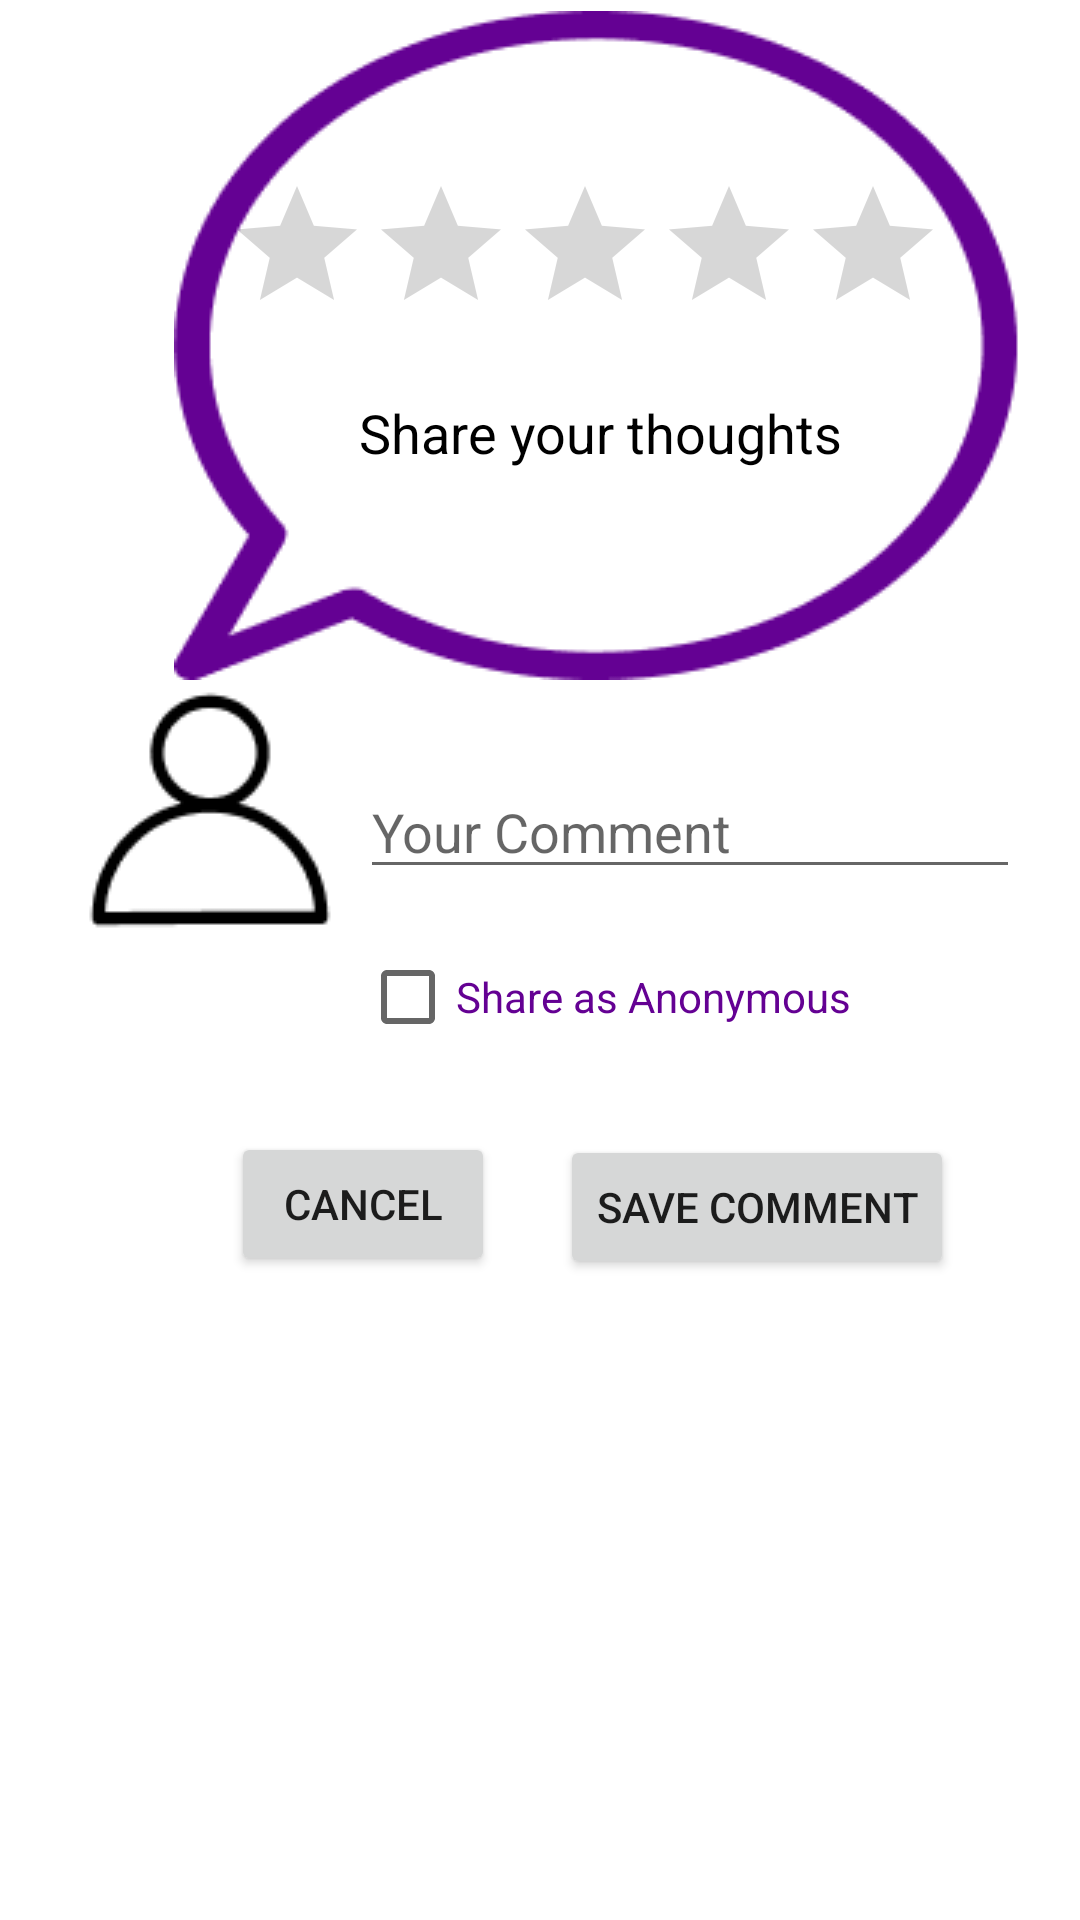

Icon click points for this 1080px×1920px phone screenshot, format point (x, y):
user: point (210, 810)
